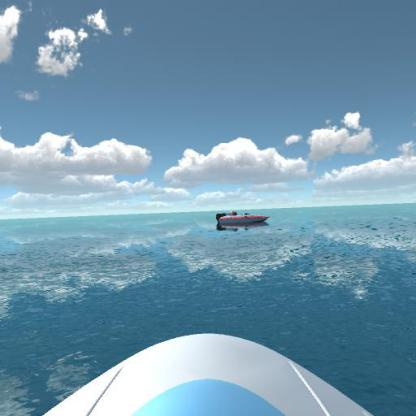usv3: (214, 208, 272, 233)
